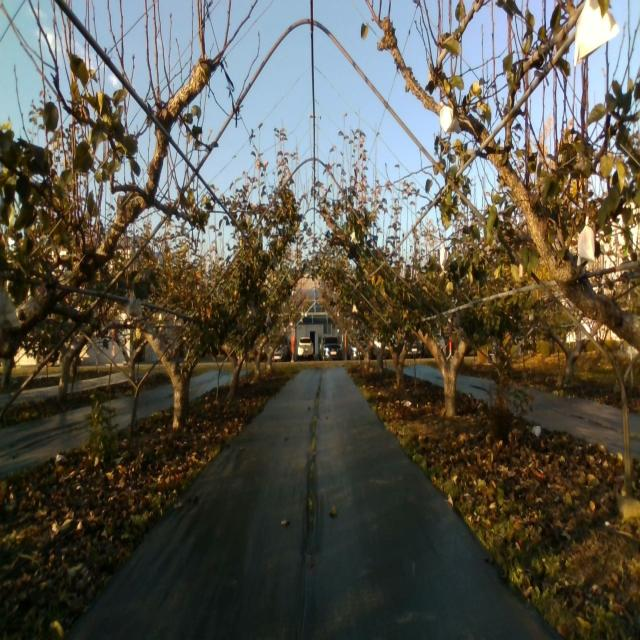pearbags: (574, 0, 620, 67), (577, 214, 596, 266), (0, 291, 20, 329), (439, 101, 461, 134), (439, 243, 451, 274), (128, 296, 143, 317)
